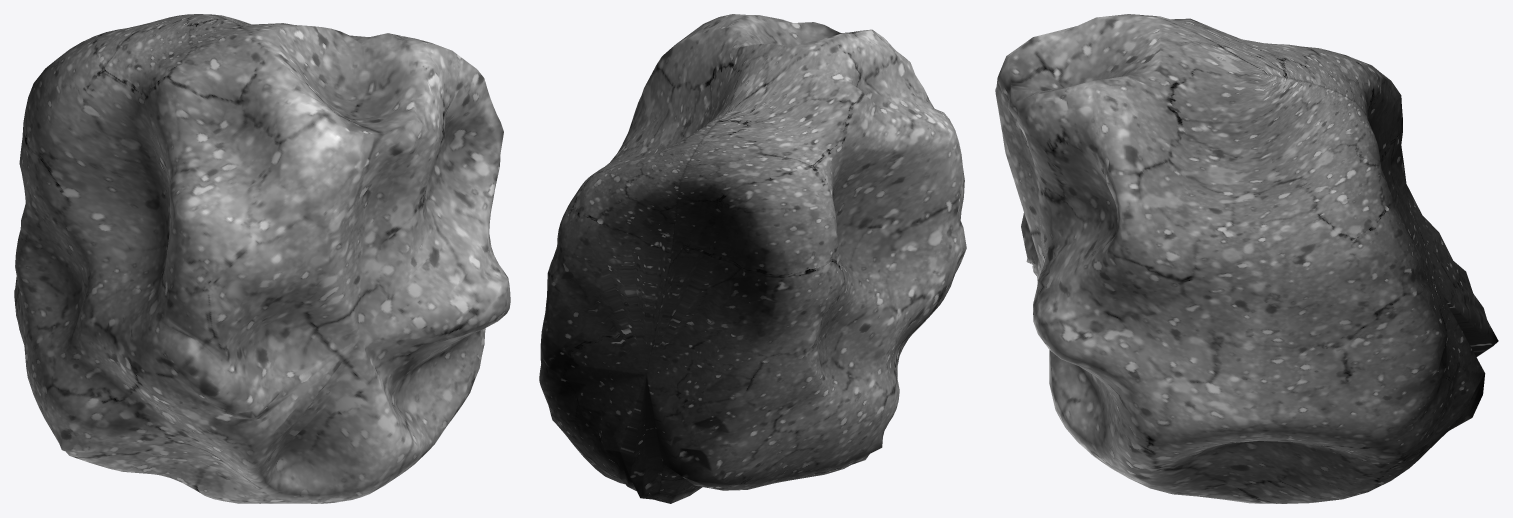
The model's file is Asteroid3.fbx.
3 views of the same model, side by side, from view 1: azimuth 30°, elevation 25°; view 2: azimuth 150°, elevation 25°; view 3: azimuth 270°, elevation 25° (orthographic). The views are drawn at different scales.
Visible parts, largest first — view 1: pCylinder1; view 2: pCylinder1; view 3: pCylinder1.
Boxes of the visible parts, x1,y1,x2,y2 form: pCylinder1: [14, 14, 510, 503]; pCylinder1: [539, 14, 966, 503]; pCylinder1: [995, 14, 1498, 503].
Bounding box in the file's own units: 10.74 × 12.93 × 13.38.
